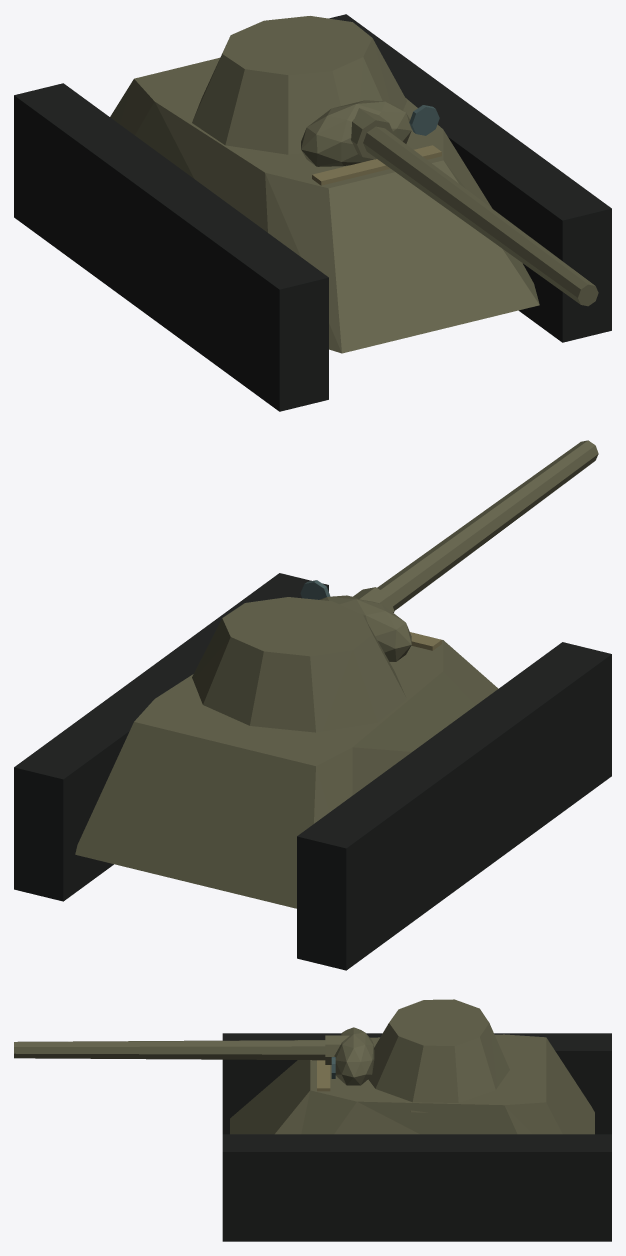
File: Bastion_Tank_LOD1.obj
3 renders of one model, top to bottom at view 1: azimuth 30°, elevation 25°; view 2: azimuth 150°, elevation 25°; view 3: azimuth 270°, elevation 25°, orthographic. The views are drawn at different scales.
Parts seen in each view (by area): view 1: Bastion_Tank_LOD1; view 2: Bastion_Tank_LOD1; view 3: Bastion_Tank_LOD1.
Boxes of the visible parts, <box> form: Bastion_Tank_LOD1: <box>14,14,611,411</box>; Bastion_Tank_LOD1: <box>14,440,611,970</box>; Bastion_Tank_LOD1: <box>14,999,611,1241</box>.
Bounding box in the file's own units: 3.36 × 2.1 × 7.15.
1 material, 1 textured.
